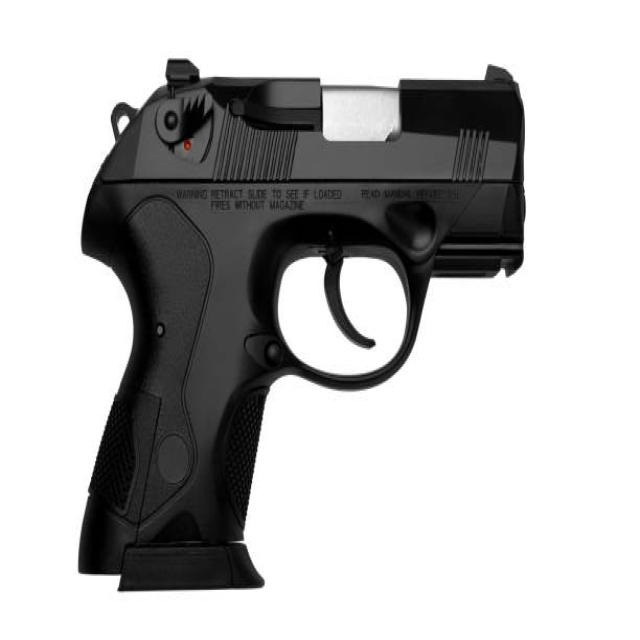pistol: (68, 50, 535, 597)
